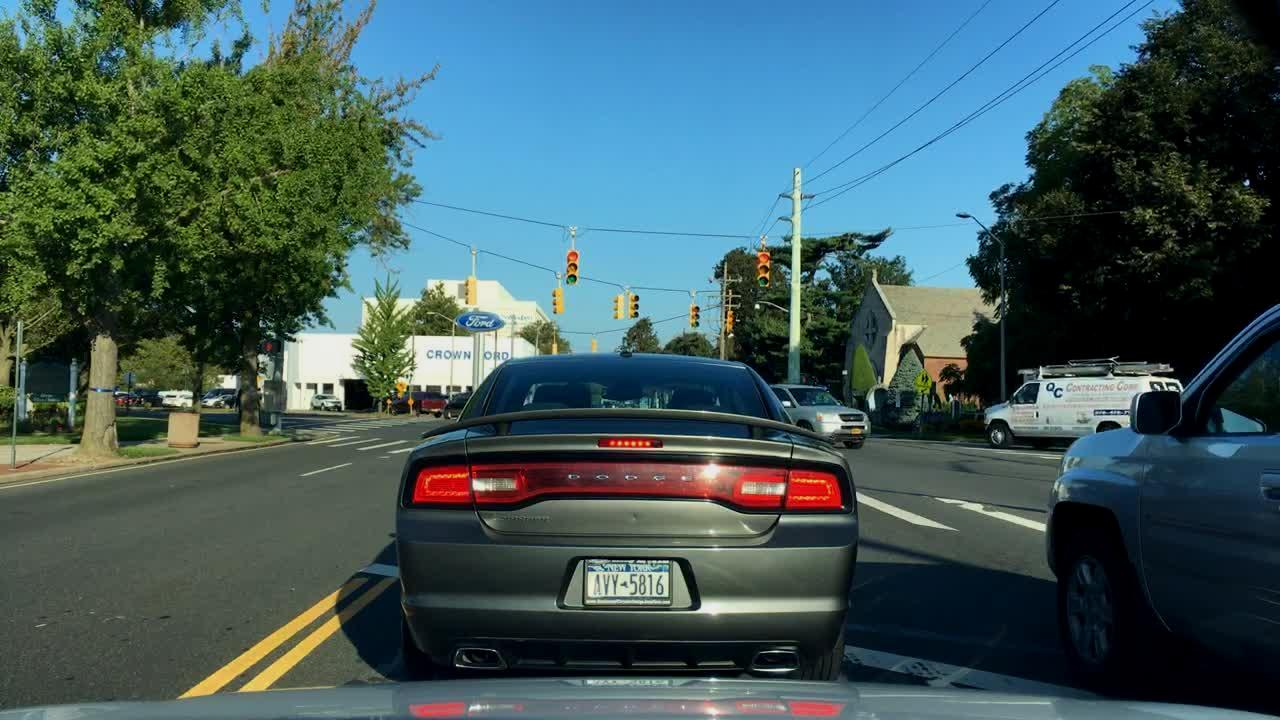dodge: (556, 463, 712, 497)
